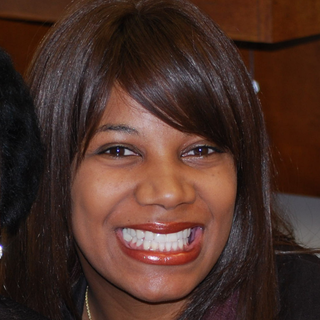eye: (172, 138, 228, 168), (88, 141, 148, 167)
